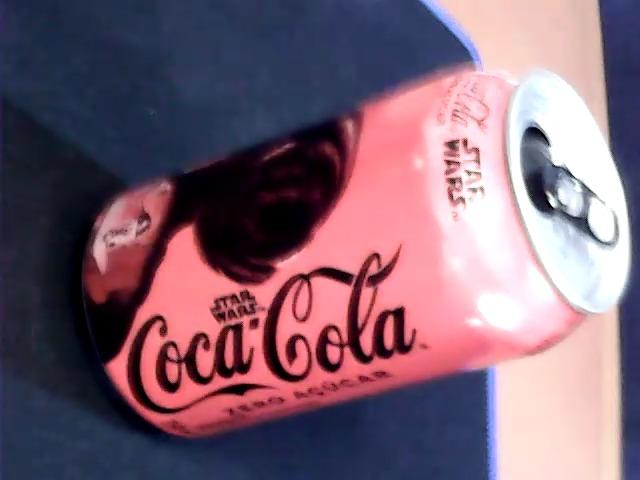coke: (70, 50, 629, 435)
